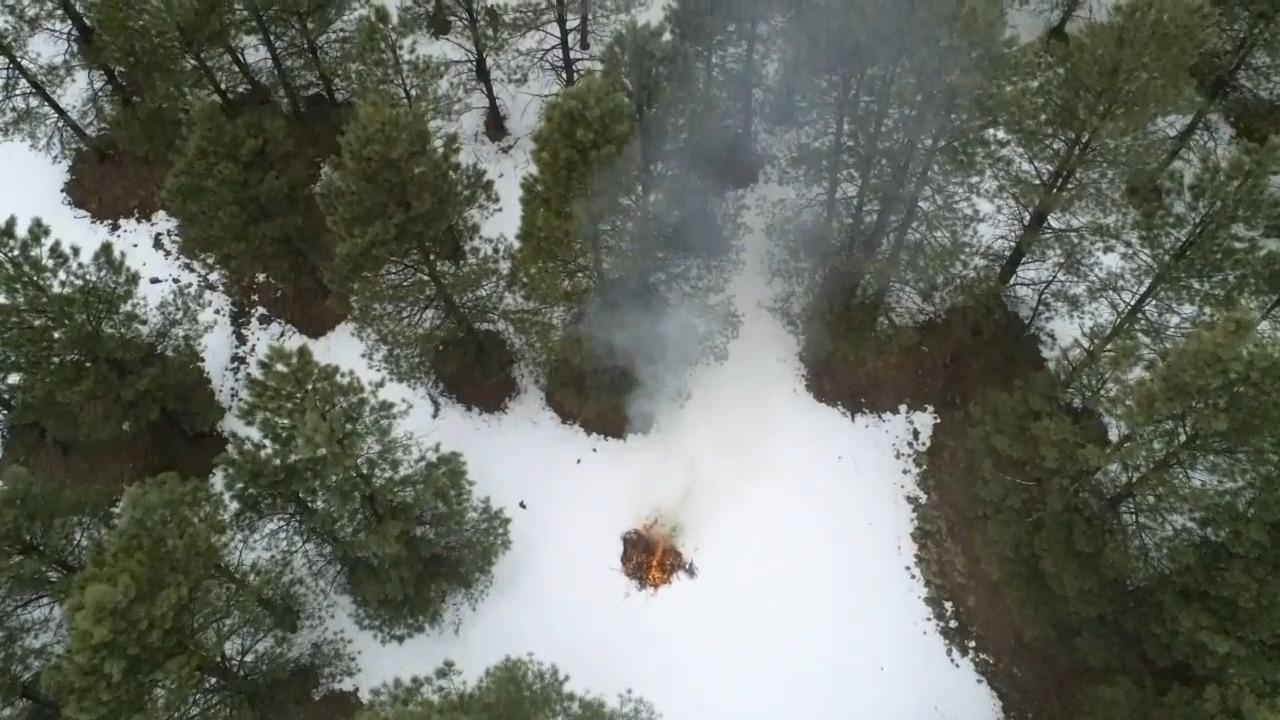fire: (619, 510, 684, 590)
smoke: (675, 0, 920, 263), (580, 263, 694, 416)
